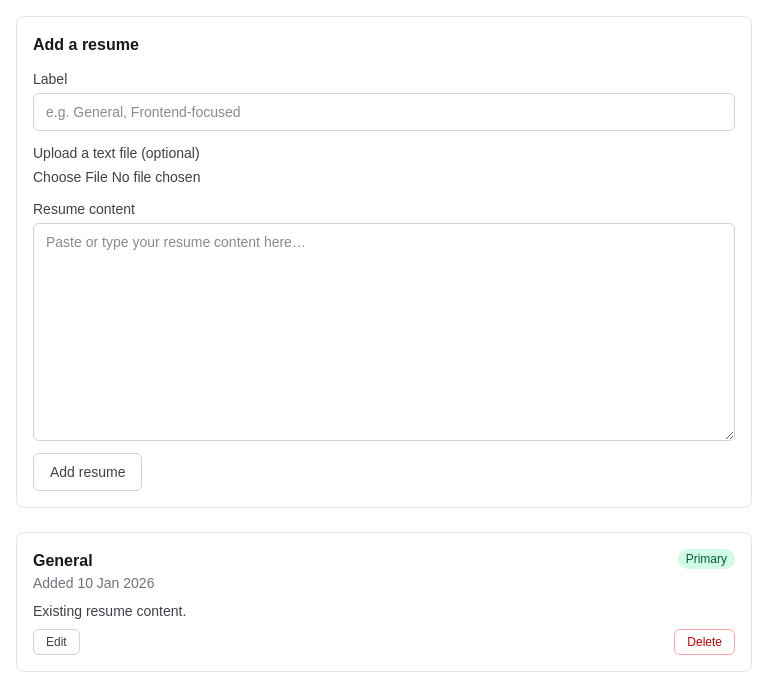
Scenario: ResumeManagerScreen › removes a resume from the list after a confirmed delete
(page scrolled)
Expected: the heading "General" is shown, [33,552,93,569]
Step 1. Click the button "Delete" → (705, 642), box [674,629,735,655]
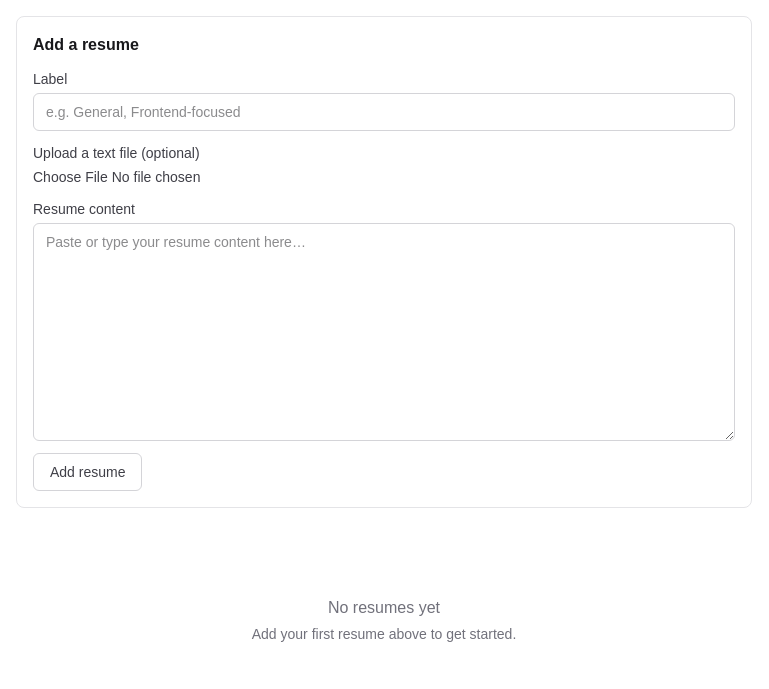
Expected: the text "No resumes yet" is shown, [328,596,440,620]
